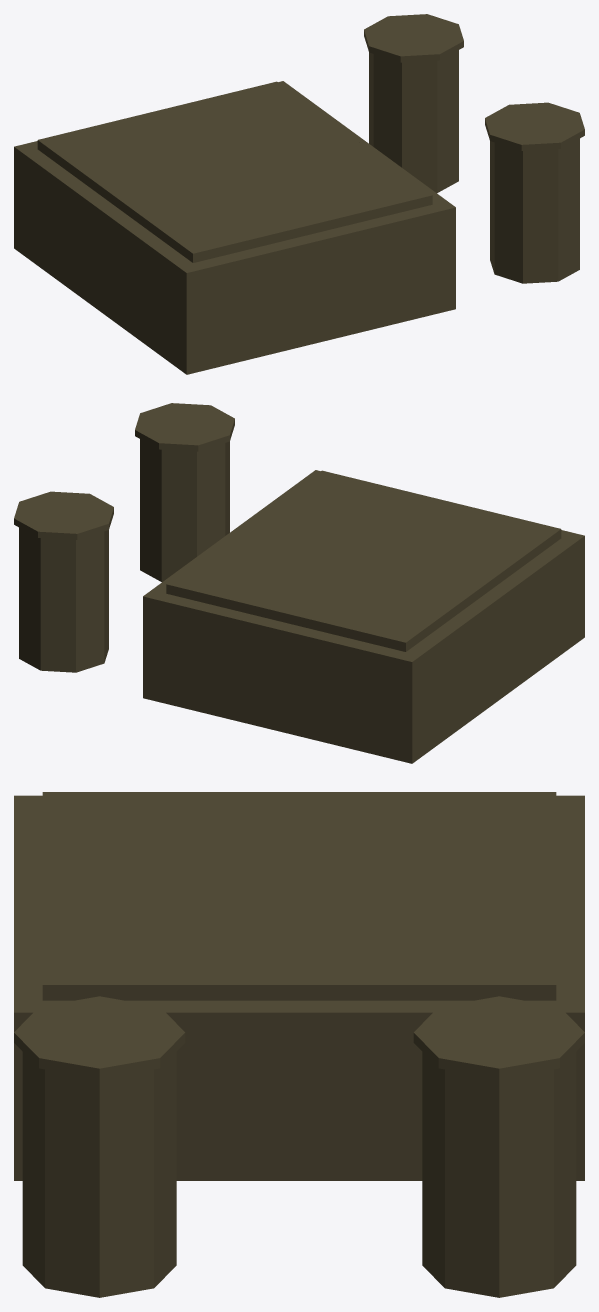
File: Building_MissileBase.obj
3 renders of one model, top to bottom at view 1: azimuth 30°, elevation 25°; view 2: azimuth 150°, elevation 25°; view 3: azimuth 270°, elevation 25°, orthographic. The views are drawn at different scales.
Bounding box in the file's own units: 28 × 9 × 20.
